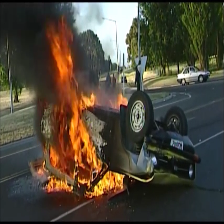fire_h: (46, 16, 107, 188), (85, 169, 125, 197)
fire_l: (46, 175, 73, 192), (108, 91, 128, 108), (37, 160, 45, 175)
